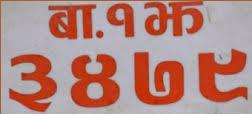1: (104, 1, 138, 40)
3: (5, 51, 60, 114)
4: (65, 50, 124, 113)
7: (129, 48, 190, 114)
9: (194, 47, 250, 114)
ba: (44, 2, 106, 46)
jha: (141, 1, 206, 42)
